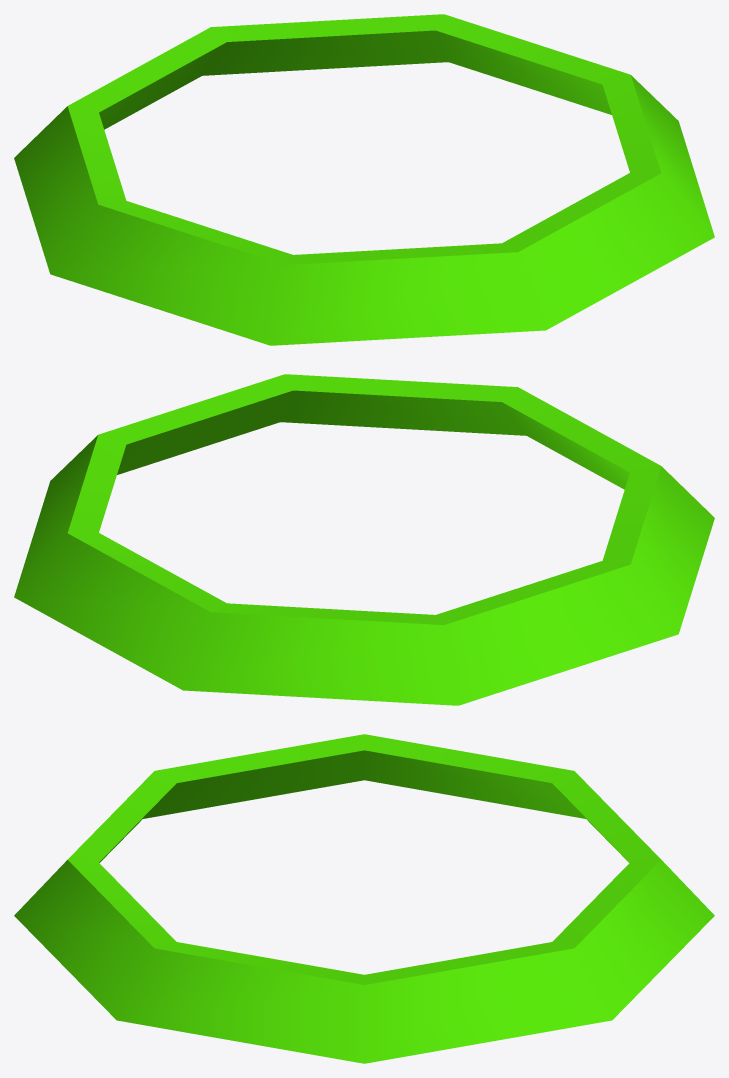
File: shtuka_3.fbx
The picture shows the model from 3 angles, top to bottom: view 1: azimuth 30°, elevation 25°; view 2: azimuth 150°, elevation 25°; view 3: azimuth 270°, elevation 25°; orthographic projection. The views are drawn at different scales.
Visible parts, largest first — view 1: circle_shtuka; view 2: circle_shtuka; view 3: circle_shtuka.
Boxes of the visible parts, x1,y1,x2,y2 form: circle_shtuka: (14, 14, 714, 345); circle_shtuka: (14, 374, 714, 705); circle_shtuka: (14, 734, 714, 1063).
Bounding box in the file's own units: 35.05 × 3.09 × 35.05.
